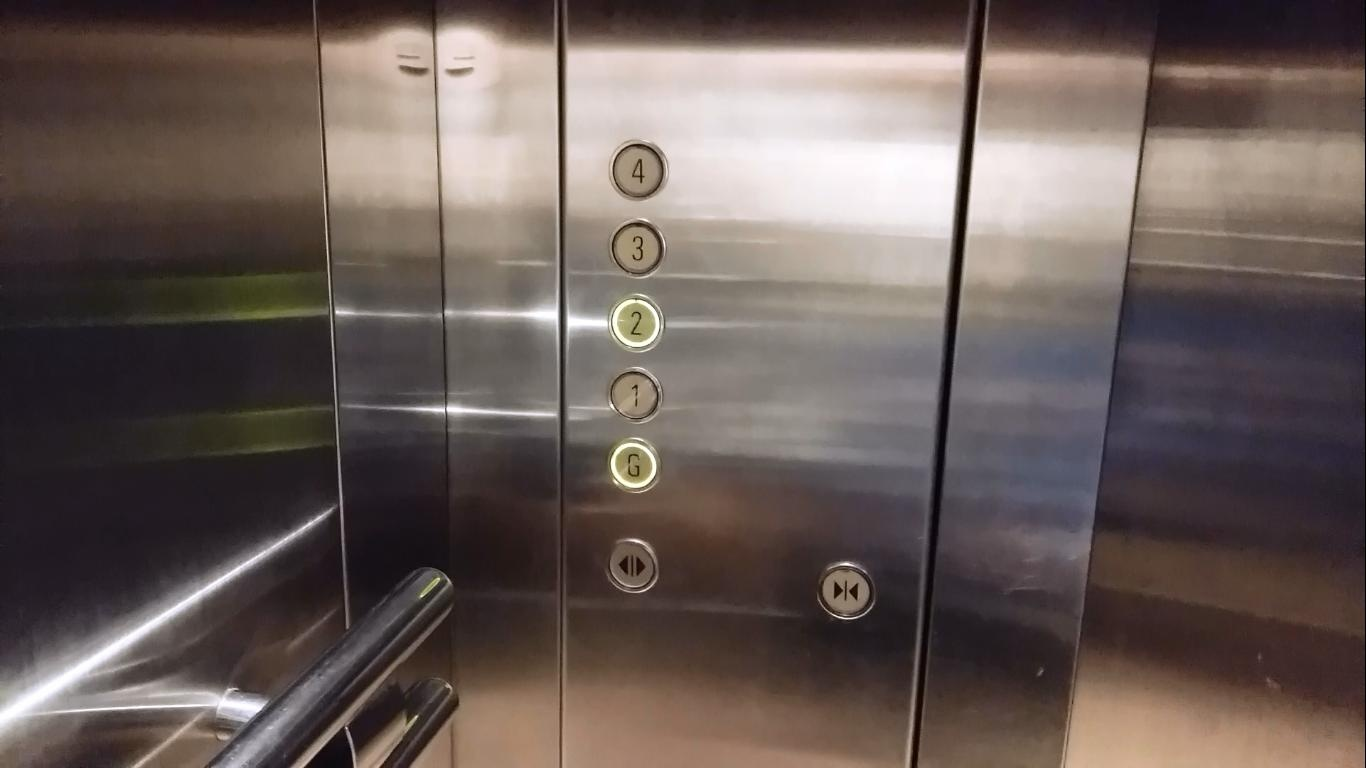1: (604, 364, 667, 428)
2: (605, 291, 668, 355)
3: (607, 217, 670, 281)
4: (606, 138, 673, 202)
G: (602, 432, 665, 496)
close: (815, 557, 878, 621)
open: (603, 536, 666, 600)
